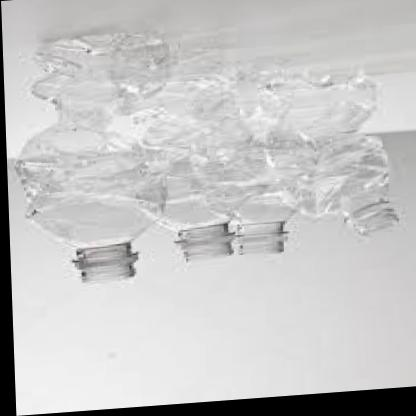Plastic: (7, 25, 170, 304), (144, 44, 250, 276), (271, 59, 396, 252), (211, 58, 297, 270)
